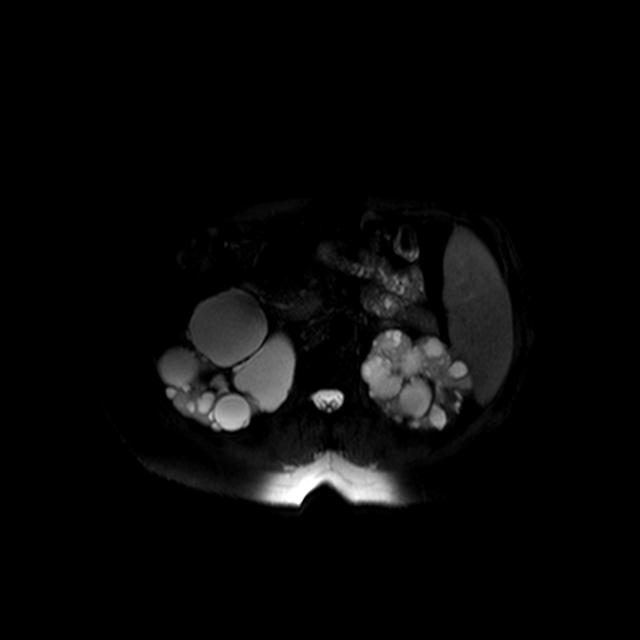sag: (157, 289, 296, 432)
sol: (361, 329, 476, 431)
